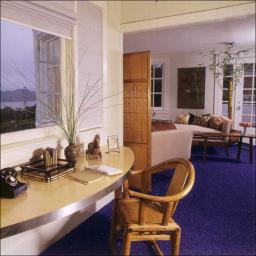Puerta: (123, 49, 154, 190)
